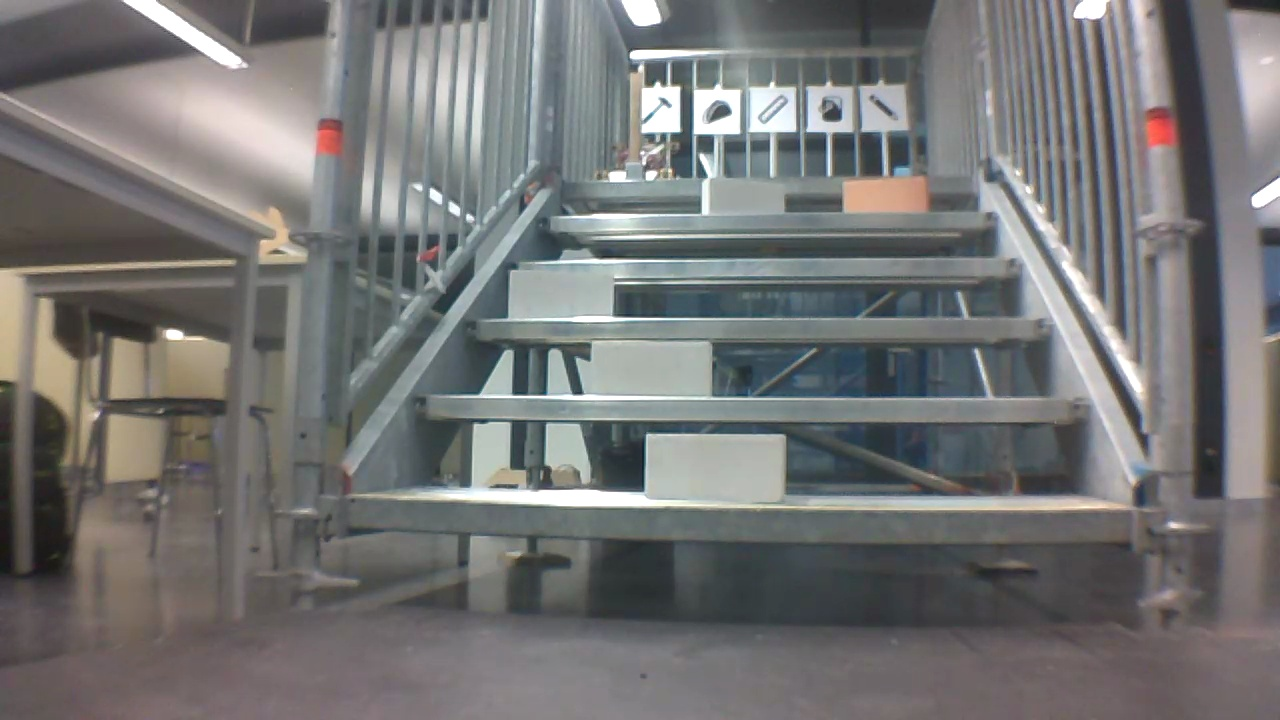brick: (645, 434, 783, 501), (592, 341, 711, 395), (509, 270, 613, 314), (846, 178, 926, 210), (703, 181, 784, 212)
bucket: (812, 90, 846, 124)
edge: (349, 498, 1138, 542), (416, 396, 1089, 421), (470, 318, 1052, 340), (510, 258, 1021, 275), (538, 211, 995, 230), (561, 176, 974, 193)
hammer: (644, 91, 673, 125)
pencil: (864, 91, 903, 124)
ruler: (755, 90, 790, 127)
stairs: (290, 4, 1194, 625)
steps: (337, 170, 1144, 553)
taco: (700, 95, 735, 128)
